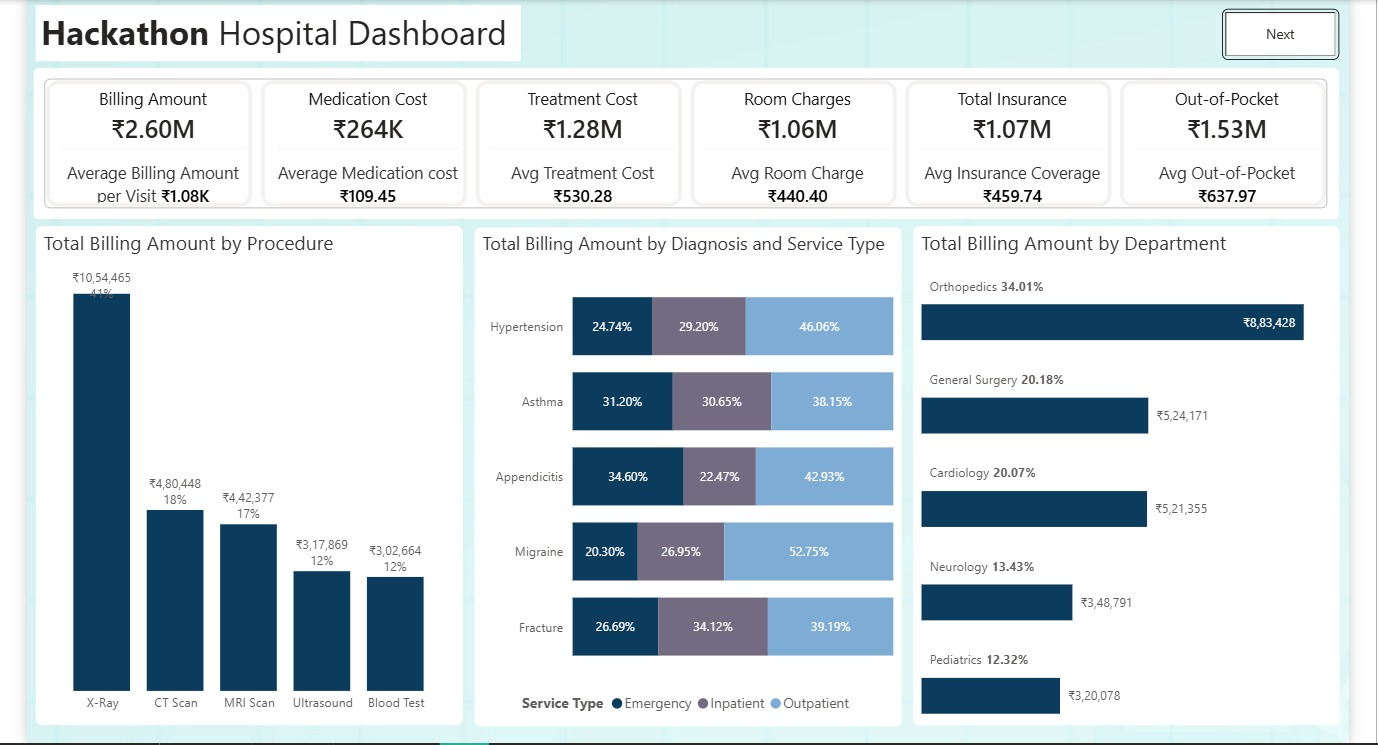

Layout of this report page (visuals, bound fields, positions):
{"tool":"powerbi","page":{"name":"Home ","canvas":[1280,720],"ordinal":0},"visuals":[{"type":"cardVisual","fields":{"Data":["DAX calculations.Total Billing","DAX calculations.Total Medication Cost","DAX calculations.Total Treatment Cost","DAX calculations.Total Room Charges","DAX calculations.Total Insurance Covered","DAX calculations.Out-of-Pocket"]},"box":[0,59.3,1279.5,159.8],"z":0},{"type":"clusteredColumnChart","title":"Total Billing Amount by Procedure","fields":{"Category":["procedures.Procedure"],"Y":["DAX calculations.Total Billing"]},"box":[8.5,219.1,414,483],"z":1000},{"type":"hundredPercentStackedBarChart","title":"Total Billing Amount by Diagnosis and Service Type","fields":{"Y":["DAX calculations.Total Billing"],"Category":["diagnoses.Diagnosis"],"Series":["visits.Service Type"]},"box":[433.4,220.3,414,483],"z":2000},{"type":"clusteredBarChart","title":"Total Billing Amount by Department","fields":{"Category":["departments.Department"],"Y":["DAX calculations.Blank Measures","DAX calculations.Total Billing"]},"box":[858.2,219.1,412.8,483],"z":3000},{"type":"textbox","box":[8.5,4.8,469.7,54.5],"z":4000},{"type":"pageNavigator","box":[1157.2,8.5,113.8,49.6],"z":5000}]}

Visuals, with their boxes on the page's 1280x720 design canvas (x1, y1, x2, y2). These are canvas units, not pixel positions in the 1378x745 screenshot, which may show the page scaled, cropped or inside an application window:
cardVisual - DAX calculations.Total Billing x DAX calculations.Total Medication Cost: (0,59,1280,219)
"Total Billing Amount by Procedure" clusteredColumnChart: (8,219,422,702)
"Total Billing Amount by Diagnosis and Service Type" hundredPercentStackedBarChart: (433,220,847,703)
"Total Billing Amount by Department" clusteredBarChart: (858,219,1271,702)
textbox: (8,5,478,59)
pageNavigator: (1157,8,1271,58)
